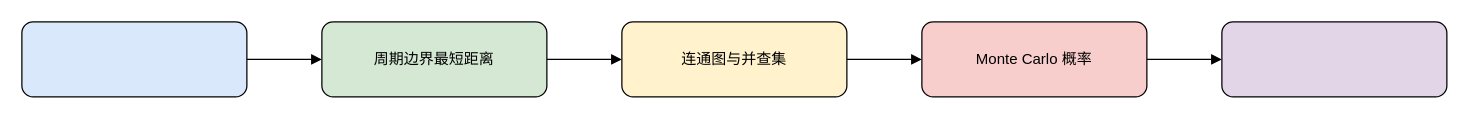
Some shapes in this 1469 by 119 pixel diagram are drawn without their labels. The shapes that lost their labels are listed below. From the top down, each one's centre as x and y in pixels, then its label:
point (134, 59): 附件坐标与几何参数
point (1334, 59): 阈值与成本优化
